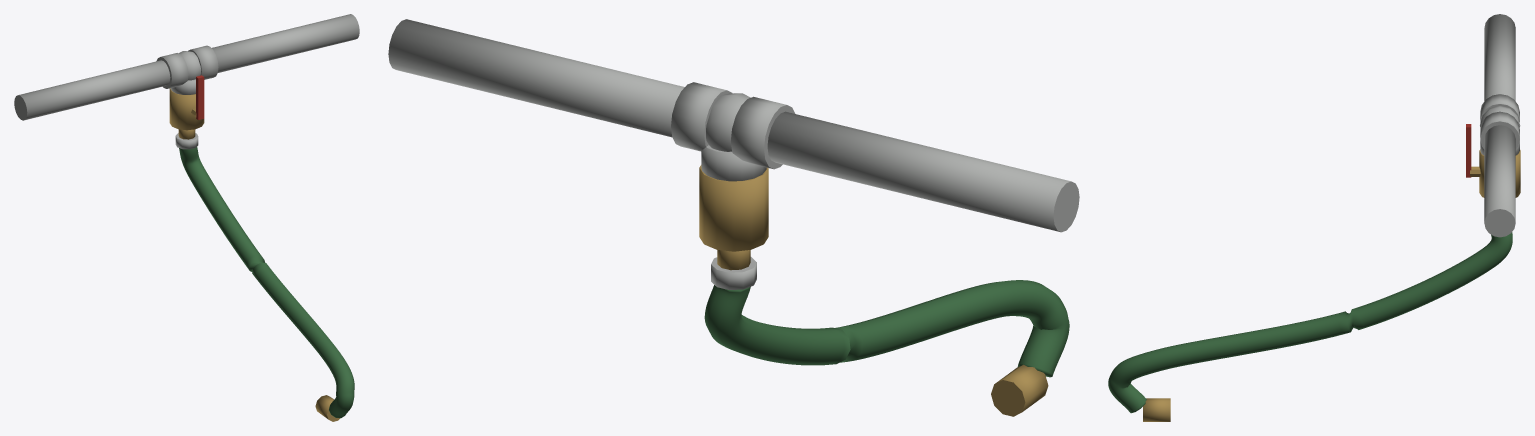
Rendered from barrel_fill_tee.obj.
3 views of the same model, side by side, from view 1: azimuth 30°, elevation 25°; view 2: azimuth 150°, elevation 25°; view 3: azimuth 270°, elevation 25° (orthographic). The views are drawn at different scales.
Visible parts, largest first — view 1: hose, pipe8, pipe2, valve_body, elbow_socket8, elbow_socket2, valve_lever, elbow_hub, nozzle; view 2: pipe8, hose, pipe2, valve_body, elbow_socket8, elbow_socket2, nozzle, elbow_hub, elbow_socket1, hose_collar; view 3: hose, pipe2, pipe8, elbow_socket2, nozzle, valve_body, elbow_socket8.
Boxes of the visible parts, x1=… form: hose: x1=179, y1=147, x2=354, y2=418; pipe8: x1=14, y1=60, x2=170, y2=120; pipe2: x1=212, y1=14, x2=359, y2=72; valve_body: x1=169, y1=88, x2=204, y2=130; elbow_socket8: x1=156, y1=53, x2=188, y2=88; elbow_socket2: x1=188, y1=45, x2=218, y2=79; valve_lever: x1=196, y1=75, x2=204, y2=119; elbow_hub: x1=179, y1=51, x2=200, y2=80; nozzle: x1=315, y1=395, x2=339, y2=421; pipe8: x1=767, y1=111, x2=1079, y2=232; hose: x1=704, y1=280, x2=1069, y2=377; pipe2: x1=388, y1=19, x2=684, y2=137; valve_body: x1=699, y1=165, x2=768, y2=251; elbow_socket8: x1=731, y1=96, x2=795, y2=169; elbow_socket2: x1=671, y1=82, x2=732, y2=151; nozzle: x1=991, y1=364, x2=1048, y2=416; elbow_hub: x1=706, y1=93, x2=750, y2=151; elbow_socket1: x1=701, y1=145, x2=766, y2=181; hose_collar: x1=711, y1=257, x2=756, y2=289; hose: x1=1108, y1=232, x2=1512, y2=413; pipe2: x1=1484, y1=125, x2=1515, y2=237; pipe8: x1=1484, y1=14, x2=1515, y2=100; elbow_socket2: x1=1480, y1=111, x2=1519, y2=149; nozzle: x1=1143, y1=398, x2=1170, y2=421; valve_body: x1=1479, y1=149, x2=1520, y2=197; elbow_socket8: x1=1480, y1=94, x2=1519, y2=122.
Size of the model in its own units: 1 by 0.7486 by 0.8942.
4 materials, 4 textured.
